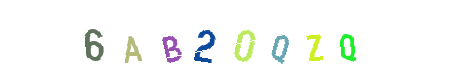0: (185, 0, 265, 80)
2: (168, 0, 248, 80)
6: (53, 0, 133, 80)
A: (131, 0, 211, 80)
B: (164, 0, 244, 80)
Q: (210, 0, 290, 80), (307, 0, 387, 80)
Z: (274, 0, 354, 80)
